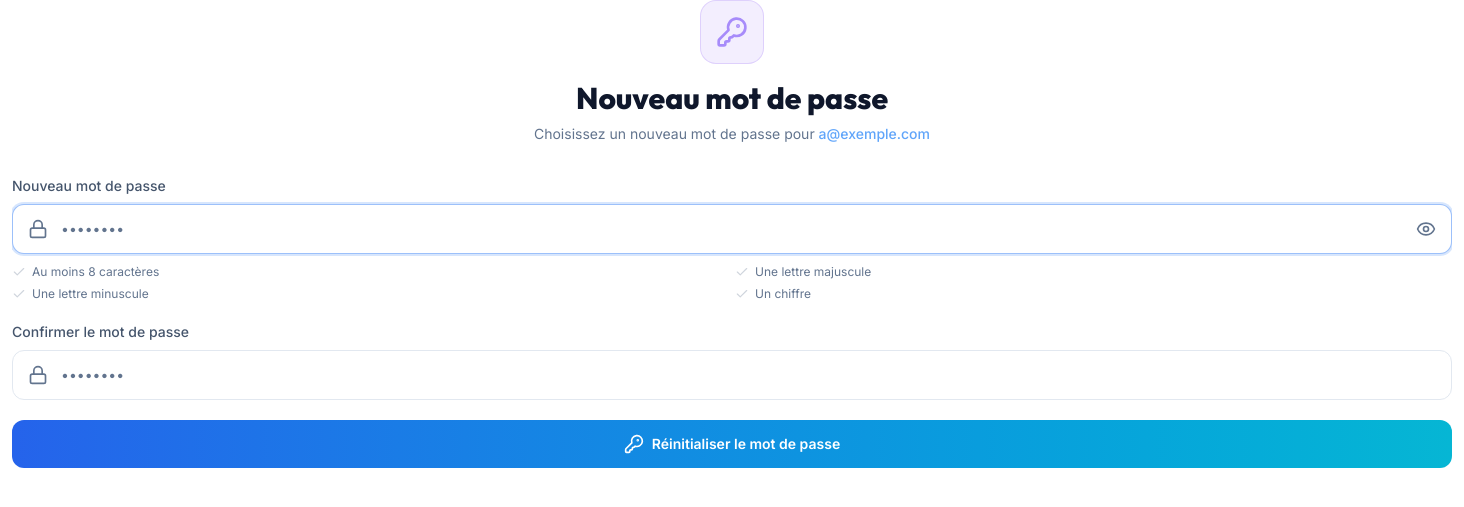
Page de réinitialisation du mot de passe › refuse un mot de passe faible sans appeler le serveur
This screenshot has width=1464, height=507.
Type "faible" into the password field labelled "Nouveau mot de passe".
click(732, 229); type("faible")  # box [12, 204, 1452, 254]
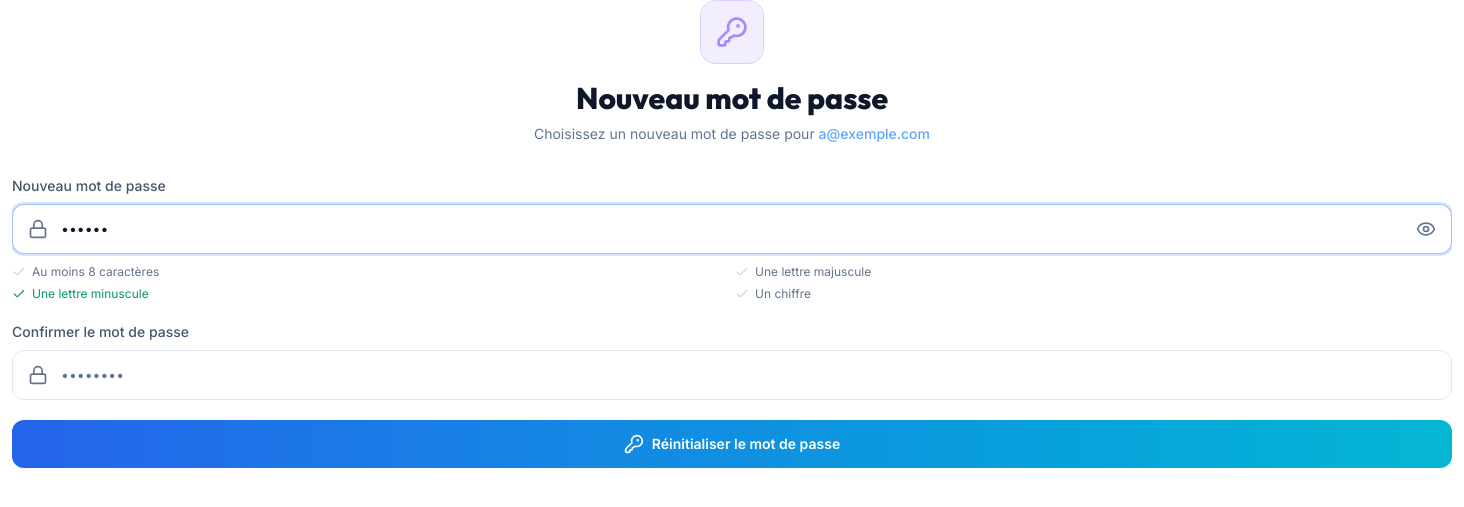
Type "faible" into the password field labelled "Confirmer le mot de passe".
click(732, 375); type("faible")  # box [12, 350, 1452, 400]
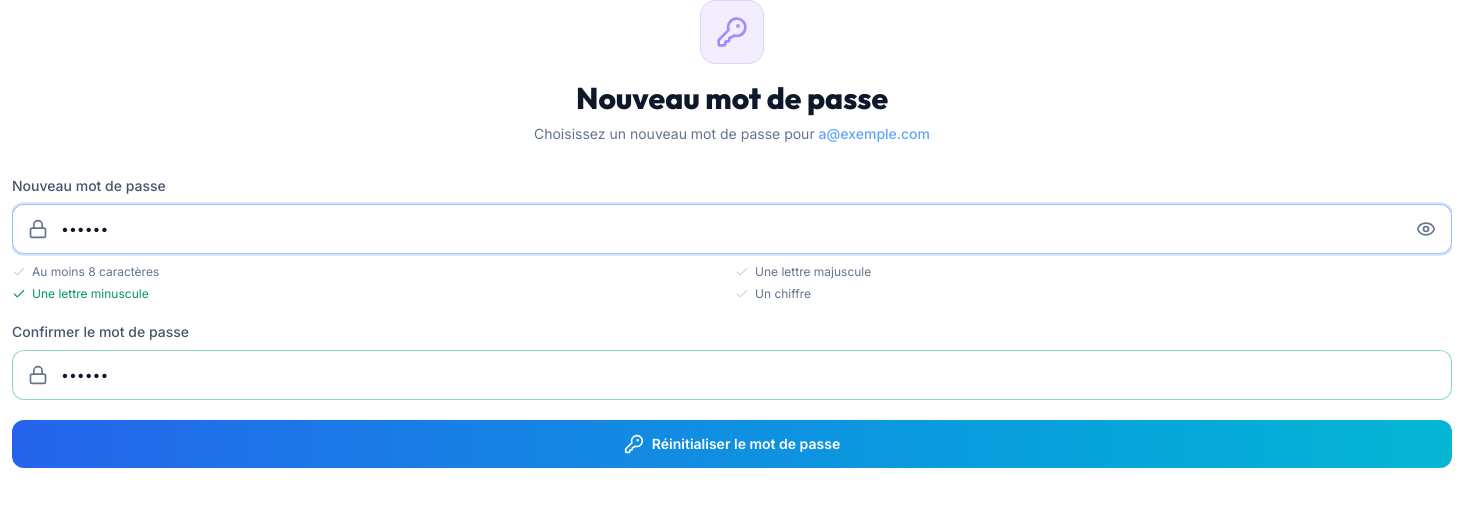
Submit the form named "Réinitialiser le mot de passe", box [12, 176, 1452, 468]
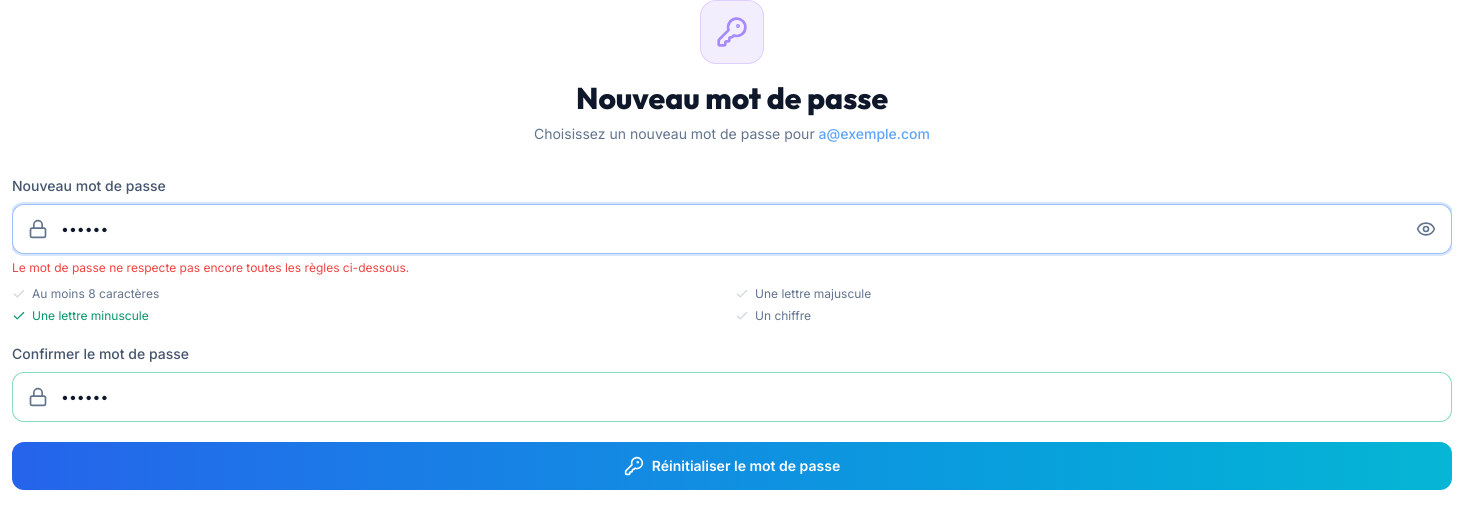
Now the message "Le mot de passe ne respecte pas encore toutes les règles ci-dessous." is shown, box [12, 260, 409, 275]
